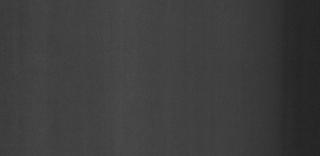silk spot: (20, 26, 52, 44)
